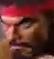ryu: (0, 2, 48, 58)
